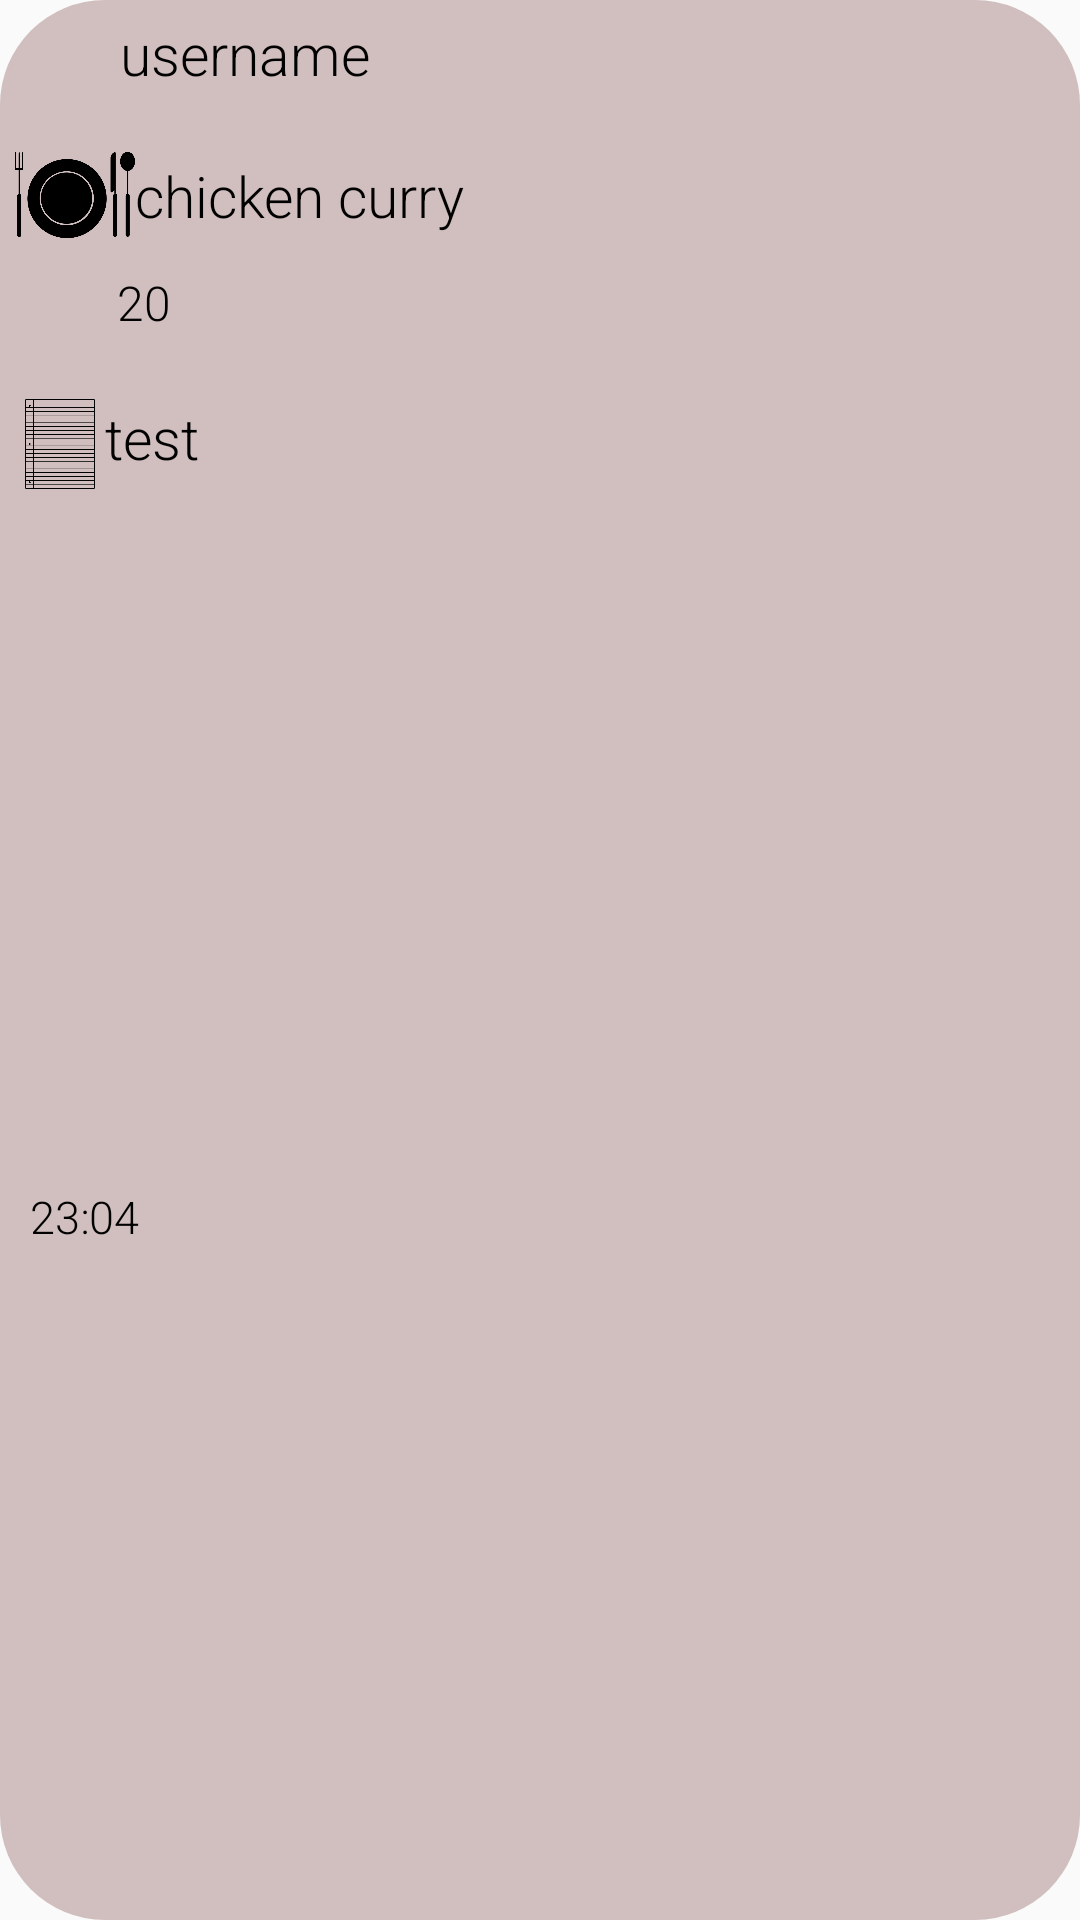

Screen size 1080x1920. Icon name, then its box in pixels as detection(x1, y1, x2, y2):
list: detection(25, 399, 95, 489)
plate: detection(15, 152, 135, 238)
